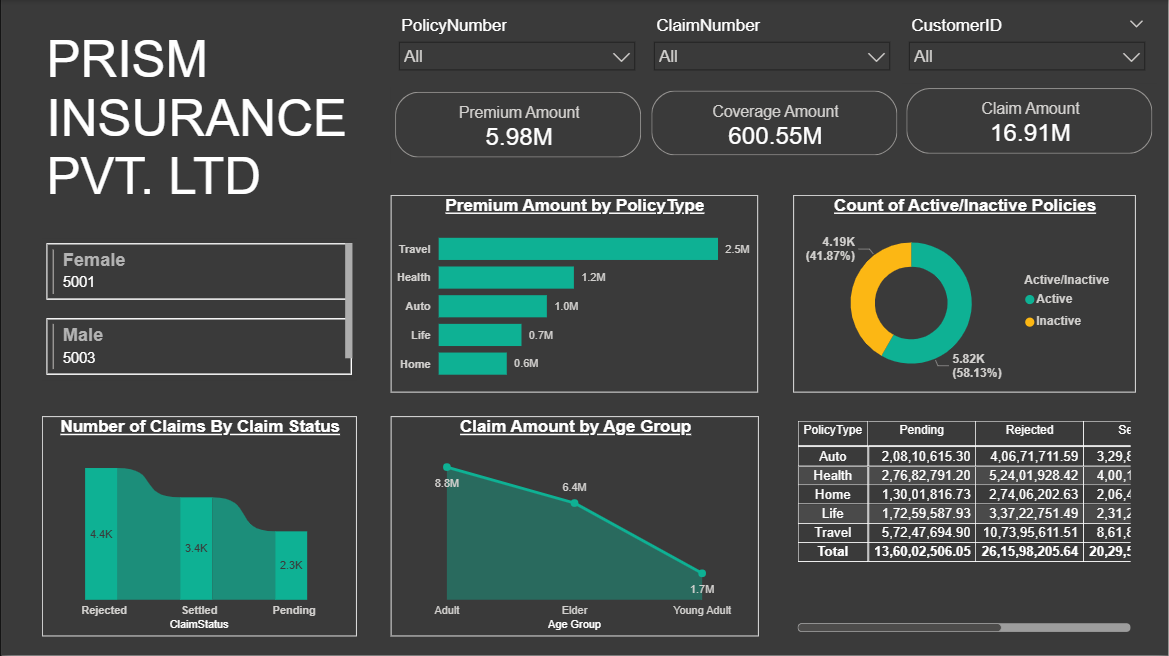

What the dashboard file says about the page in this screenshot:
{"tool":"powerbi","page":{"name":"Page 1","canvas":[1280,720],"ordinal":0},"visuals":[{"type":"slicer","fields":{"Values":["InsuranceData.PolicyNumber"]},"box":[425.4,12.3,279.9,279.9],"z":0},{"type":"slicer","fields":{"Values":["InsuranceData.ClaimNumber"]},"box":[705.3,12.3,279.9,279.9],"z":1000},{"type":"slicer","fields":{"Values":["InsuranceData.CustomerID"]},"box":[985.3,12.3,279.9,279.9],"z":2000},{"type":"textbox","box":[43.9,28.8,345.8,215.4],"z":3000},{"type":"cardVisual","fields":{"Data":["Sum(InsuranceData.PremiumAmount)"]},"box":[427.1,95.7,280,82.9],"z":4000},{"type":"cardVisual","fields":{"Data":["Sum(InsuranceData.CoverageAmount)"]},"box":[708,94,280,81.4],"z":5000},{"type":"cardVisual","fields":{"Data":["Sum(InsuranceData.ClaimAmount)"]},"box":[988,92.6,280,82.9],"z":6000},{"type":"multiRowCard","fields":{"Values":["InsuranceData.Gender","CountNonNull(InsuranceData.Gender)"]},"box":[43.9,262.1,345.8,155.1],"z":7000},{"type":"ribbonChart","title":"Number of Claims By Claim Status","fields":{"Category":["InsuranceData.ClaimStatus"],"Y":["CountNonNull(InsuranceData.ClaimStatus)"]},"box":[43.9,456.9,345.8,241.5],"z":8000},{"type":"barChart","title":"Premium Amount by PolicyType","fields":{"Category":["InsuranceData.PolicyType"],"Y":["Sum(InsuranceData.PremiumAmount)"]},"box":[427.1,214.3,402.9,217.1],"z":9000},{"type":"lineChart","title":"Claim Amount by Age Group","fields":{"Category":["InsuranceData.Age Group"],"Y":["Sum(InsuranceData.ClaimAmount)"]},"box":[427.1,457.1,404.3,241.4],"z":10000},{"type":"donutChart","title":"Count of Active/Inactive Policies","fields":{"Category":["InsuranceData.Active/Inactive"],"Y":["CountNonNull(InsuranceData.Active/Inactive)"]},"box":[868.6,214.3,375.7,217.1],"z":11000},{"type":"pivotTable","fields":{"Values":["Sum(InsuranceData.CoverageAmount)"],"Rows":["InsuranceData.PolicyType"],"Columns":["InsuranceData.ClaimStatus"]},"box":[868.6,457.1,375.7,241.4],"z":12000}]}

Visuals, with their boxes in screenshot pixels (x1, y1, x2, y2), scaled from the page's 1280x720 canvas onto the 1169x656 screenshot:
slicer - InsuranceData.PolicyNumber: (389,11,644,266)
slicer - InsuranceData.ClaimNumber: (644,11,900,266)
slicer - InsuranceData.CustomerID: (900,11,1155,266)
textbox: (40,26,356,222)
cardVisual - Sum(InsuranceData.PremiumAmount): (390,87,646,163)
cardVisual - Sum(InsuranceData.CoverageAmount): (647,86,902,160)
cardVisual - Sum(InsuranceData.ClaimAmount): (902,84,1158,160)
multiRowCard - InsuranceData.Gender x CountNonNull(InsuranceData.Gender): (40,239,356,380)
"Number of Claims By Claim Status" ribbonChart: (40,416,356,636)
"Premium Amount by PolicyType" barChart: (390,195,758,393)
"Claim Amount by Age Group" lineChart: (390,416,759,636)
"Count of Active/Inactive Policies" donutChart: (793,195,1136,393)
pivotTable - Sum(InsuranceData.CoverageAmount) x InsuranceData.PolicyType: (793,416,1136,636)
